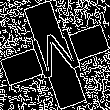M_S: (24, 23, 86, 87)
